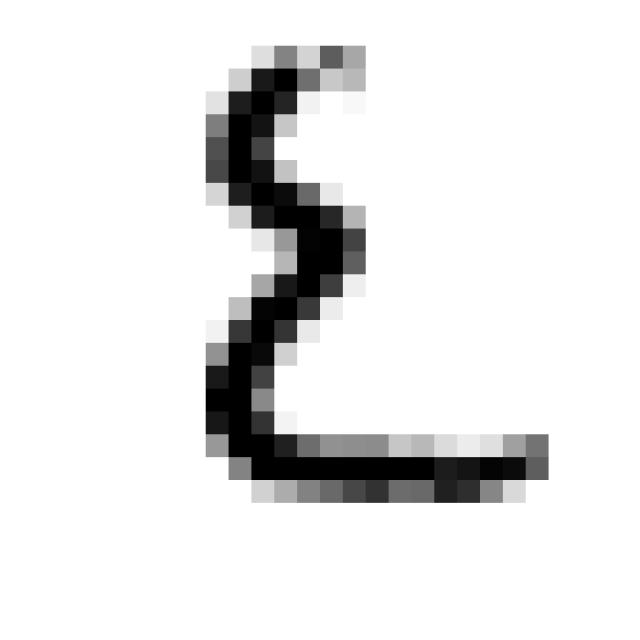4 -four-: (169, 21, 582, 520)
